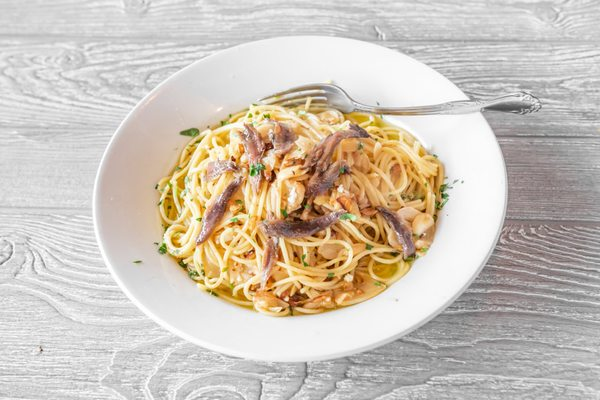burger: (250, 81, 543, 119)
sushi: (92, 33, 550, 366)
